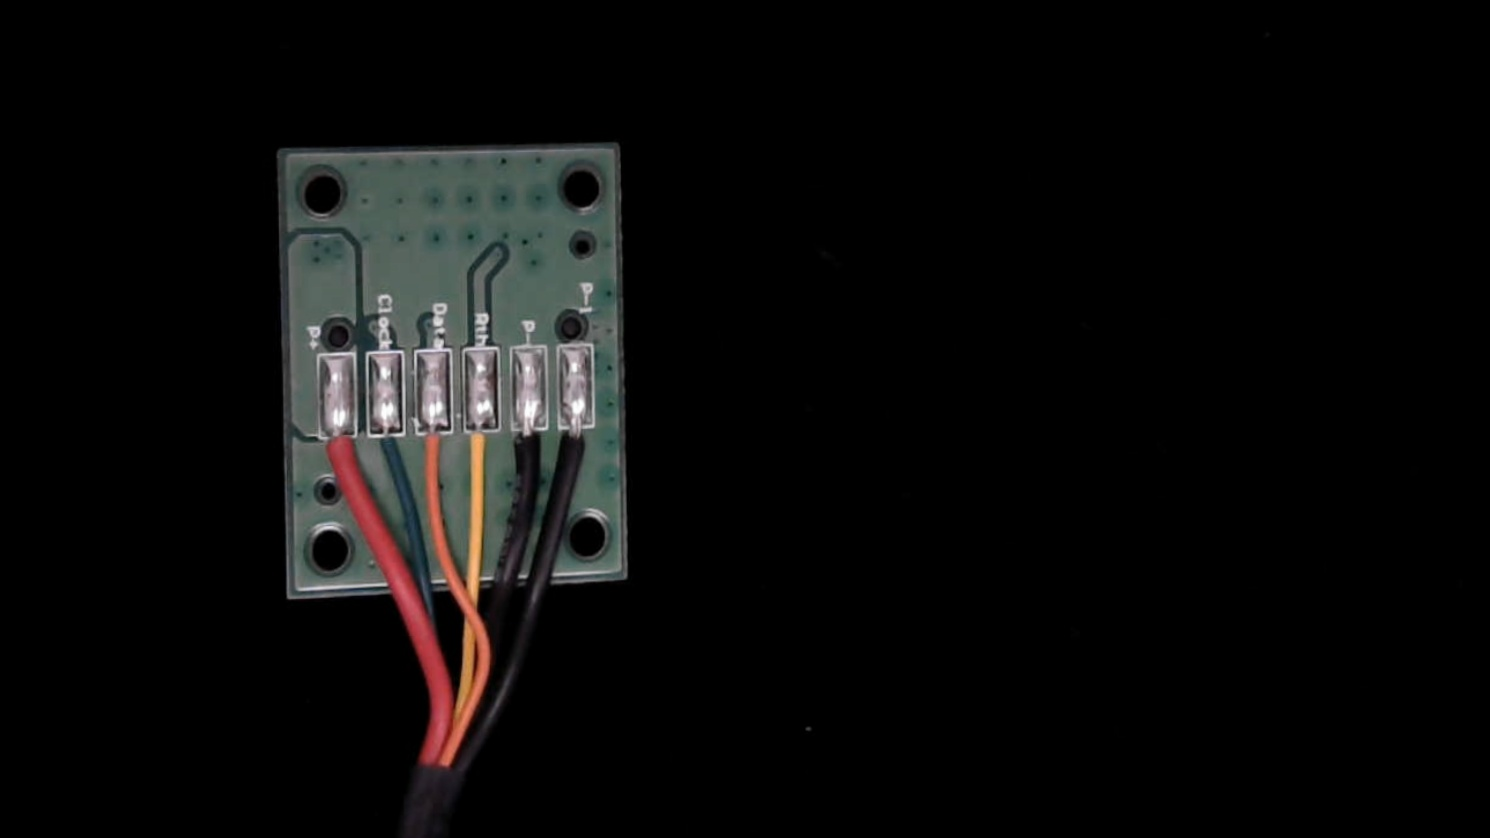Black: (508, 405, 550, 503)
Black1: (559, 401, 599, 491)
Green: (365, 404, 407, 486)
Orange: (414, 404, 453, 500)
Red: (319, 409, 361, 503)
Yellow: (465, 405, 506, 504)
